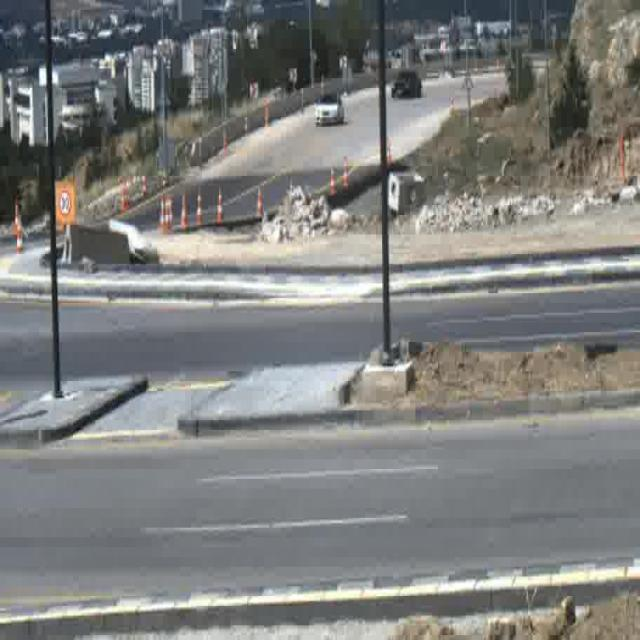Car: (314, 94, 344, 126), (392, 68, 422, 99)
